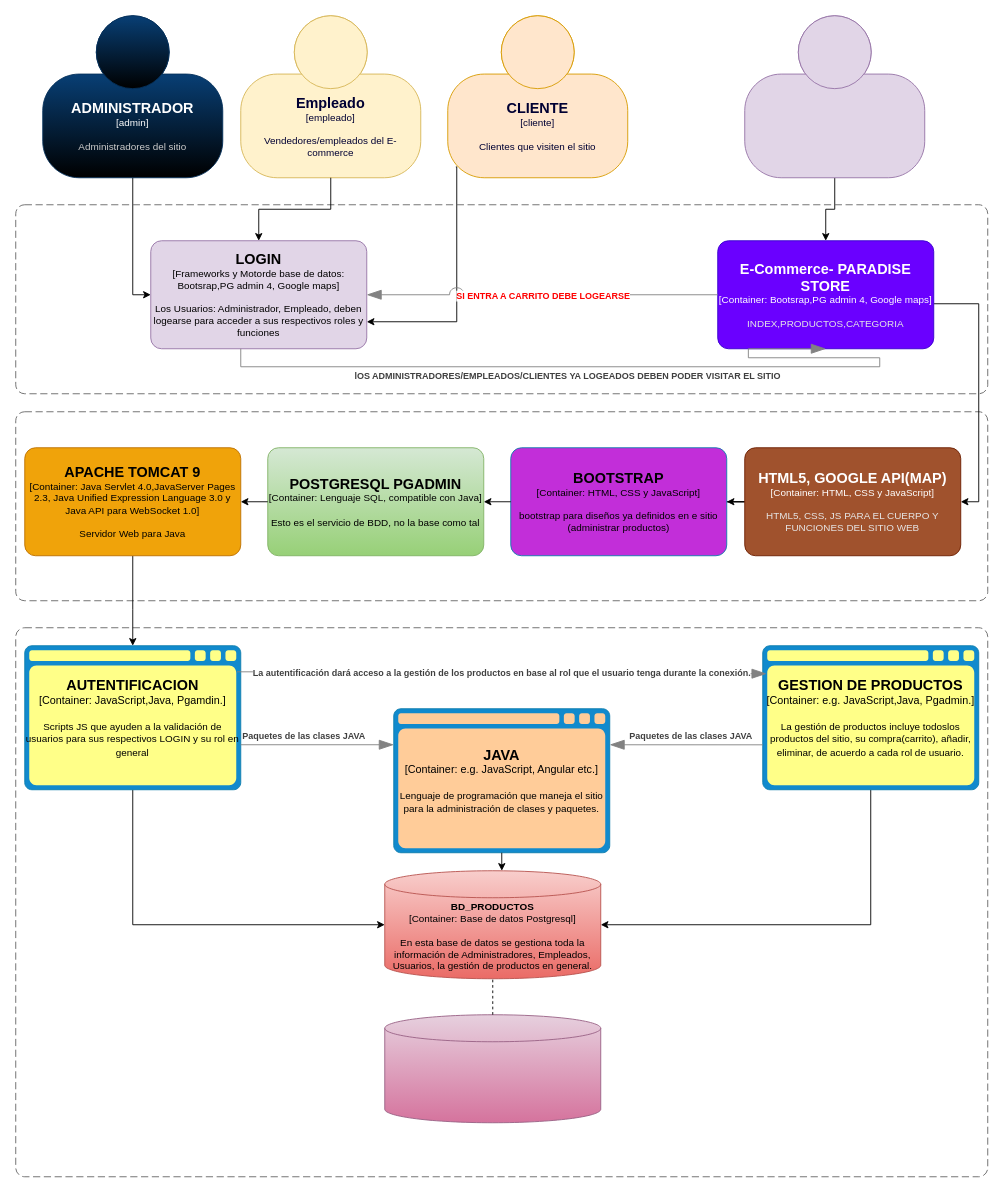
This 1004x1193 diagram has some shape labels left out. The shapes that lost their labels are listed below. From the top down, each one's box as (x1, y1, x2, y2) in pixels, then its label:
(744, 15, 925, 178): INVITADO [Invitado] Invitados del sitio (no logeados)
(15, 204, 988, 394): CONTEXTO [Contexto]
(15, 411, 988, 601): Container [CONTAINER]
(15, 627, 988, 1177): COMPONENTES [Componentes]
(384, 1014, 601, 1123): BCK_BD_PRODUCTOS [Container: Base de datos Postgresql] BACKUP de la BD_PRODUCTOS
